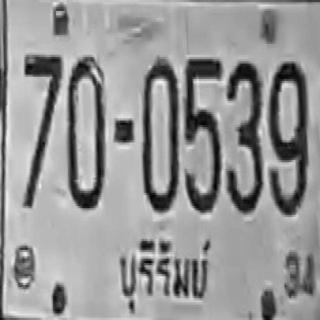N00: (67, 56, 105, 209), (142, 59, 178, 213)
N03: (225, 60, 262, 214)
N05: (184, 57, 222, 212)
N07: (22, 53, 61, 208)
N09: (268, 59, 308, 215)
P06: (108, 227, 213, 317)
